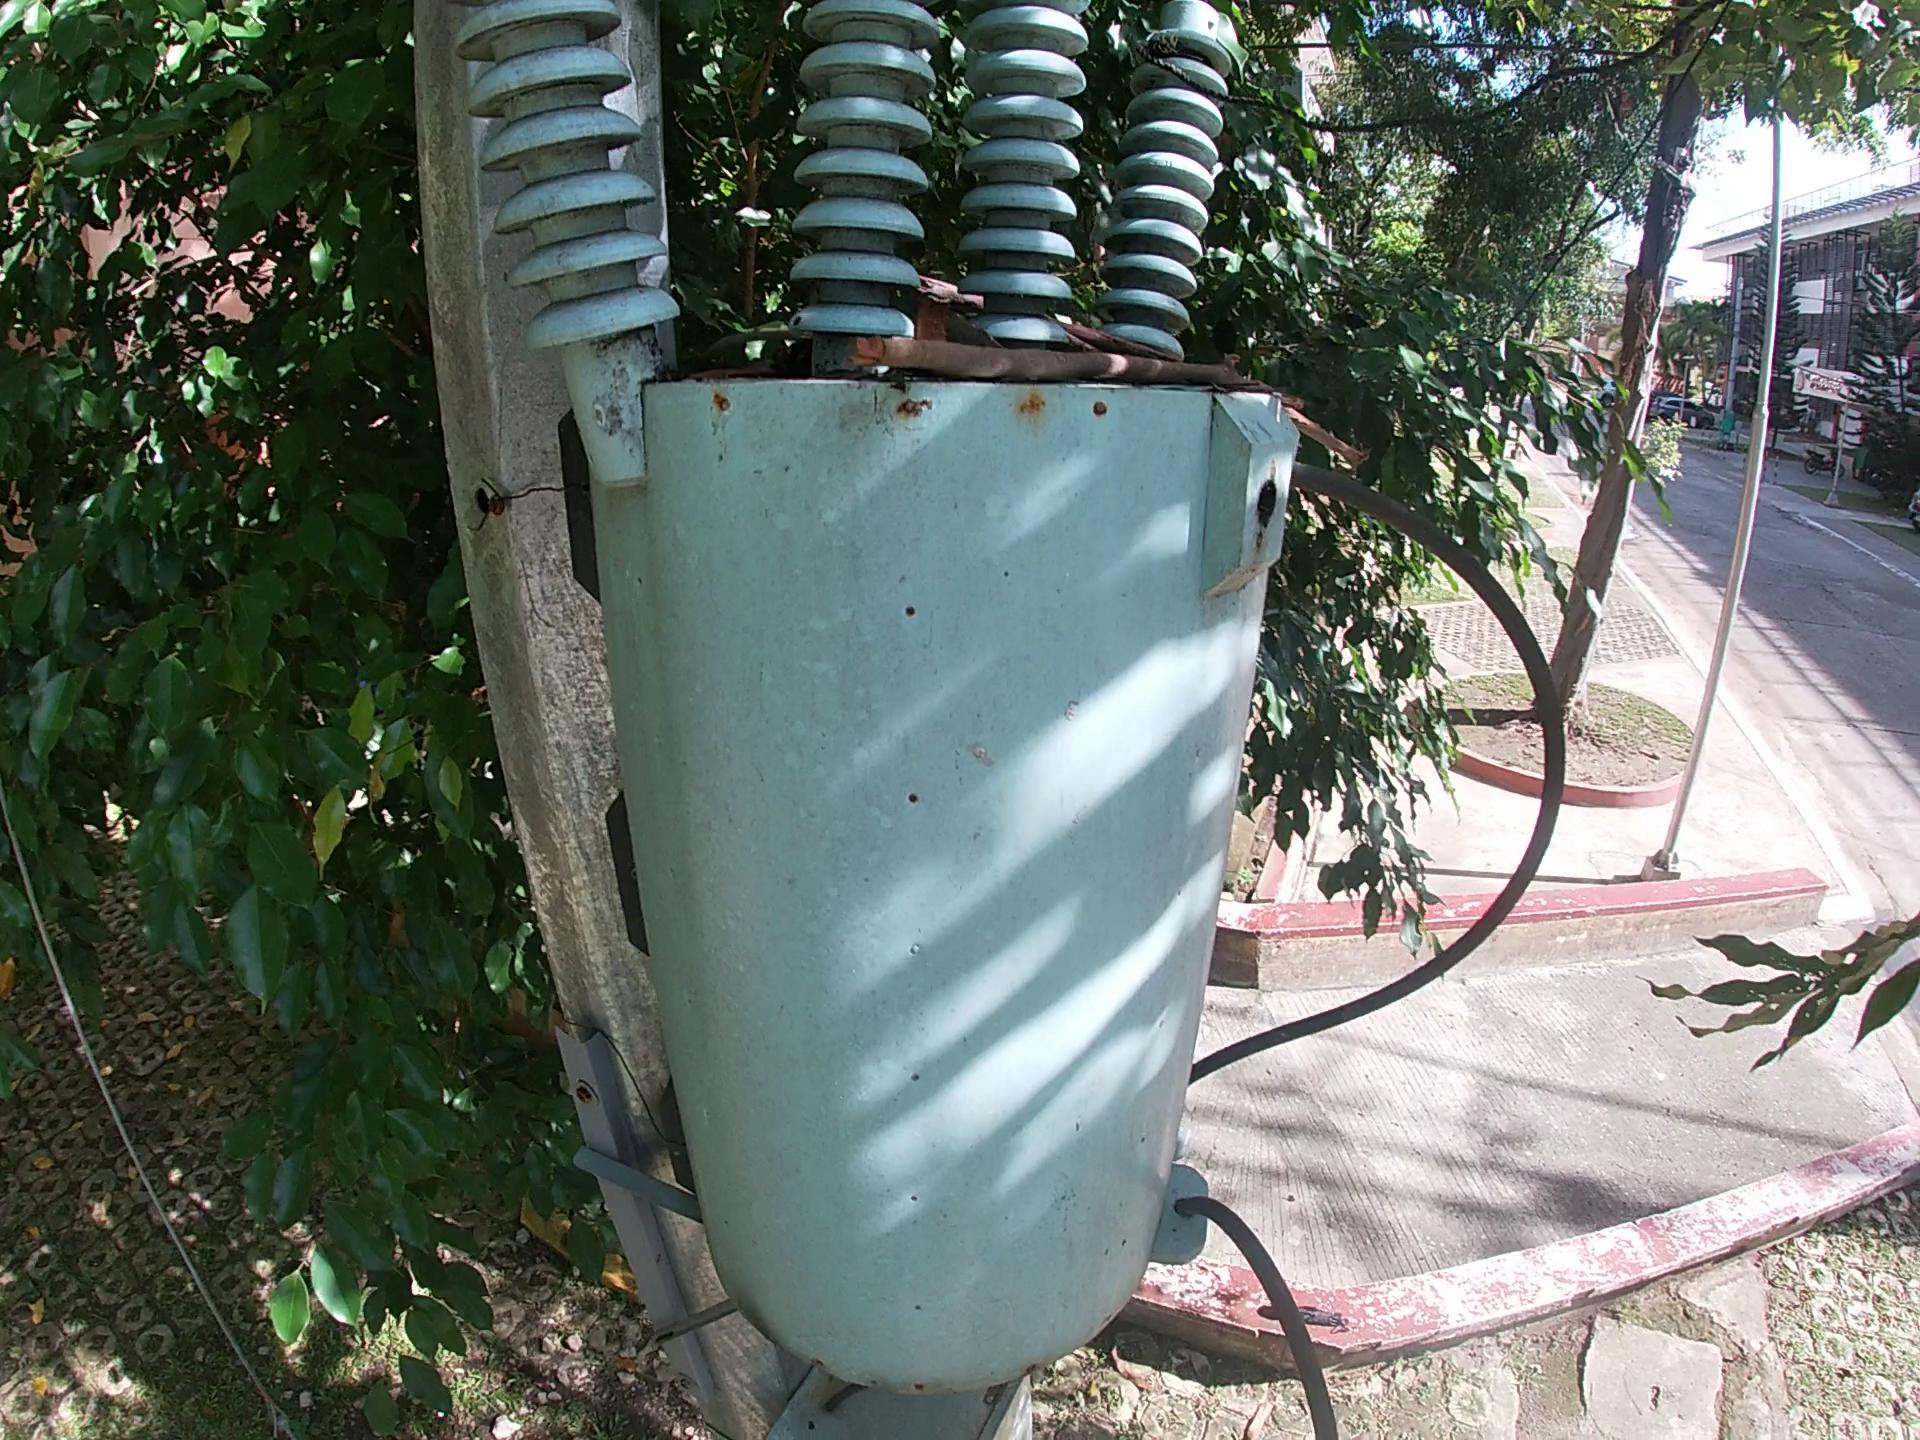mahogany fruit: (910, 289, 954, 343), (945, 310, 1004, 349)
tree branch: (844, 327, 1373, 472), (909, 269, 1193, 358), (683, 324, 809, 368)
